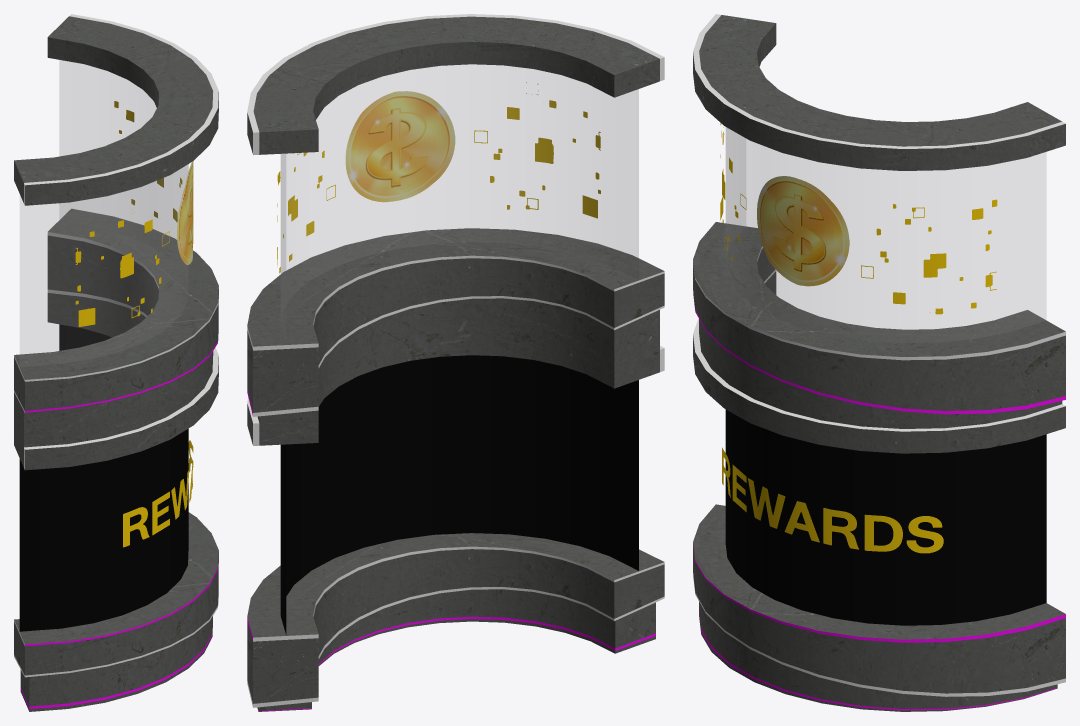
The model's file is RewardsCounter.fbx.
3 views of the same model, side by side, from view 1: azimuth 30°, elevation 25°; view 2: azimuth 150°, elevation 25°; view 3: azimuth 270°, elevation 25° (orthographic). The views are drawn at different scales.
Visible parts, largest first — view 1: Rewards; view 2: Rewards; view 3: Rewards.
Boxes of the visible parts, x1,y1,x2,y2 form: Rewards: [14, 14, 218, 711]; Rewards: [247, 14, 664, 711]; Rewards: [693, 14, 1065, 711].
Bounding box in the file's own units: 428 × 835 × 499.
6 materials, 2 textured.
